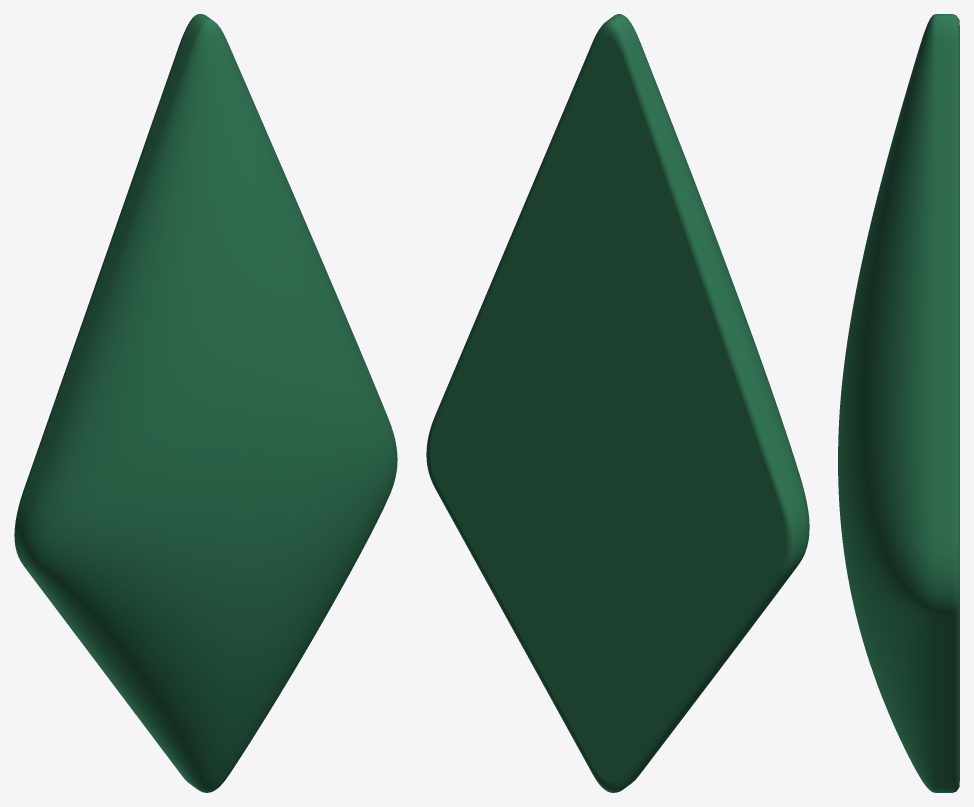
Rendered from kite.glb.
3 renders of one model, left to right at view 1: azimuth 30°, elevation 25°; view 2: azimuth 150°, elevation 25°; view 3: azimuth 270°, elevation 25°, orthographic.
Visible parts, largest first — view 1: Kite Cabochon 28x14x4mm; view 2: Kite Cabochon 28x14x4mm; view 3: Kite Cabochon 28x14x4mm.
Part boxes in pixels (box(x1,y1,x2,y2)): Kite Cabochon 28x14x4mm: box(14, 14, 397, 792); Kite Cabochon 28x14x4mm: box(426, 14, 809, 792); Kite Cabochon 28x14x4mm: box(838, 14, 959, 792).
Size of the model in its own units: 0.014 by 0.028 by 0.00398.
